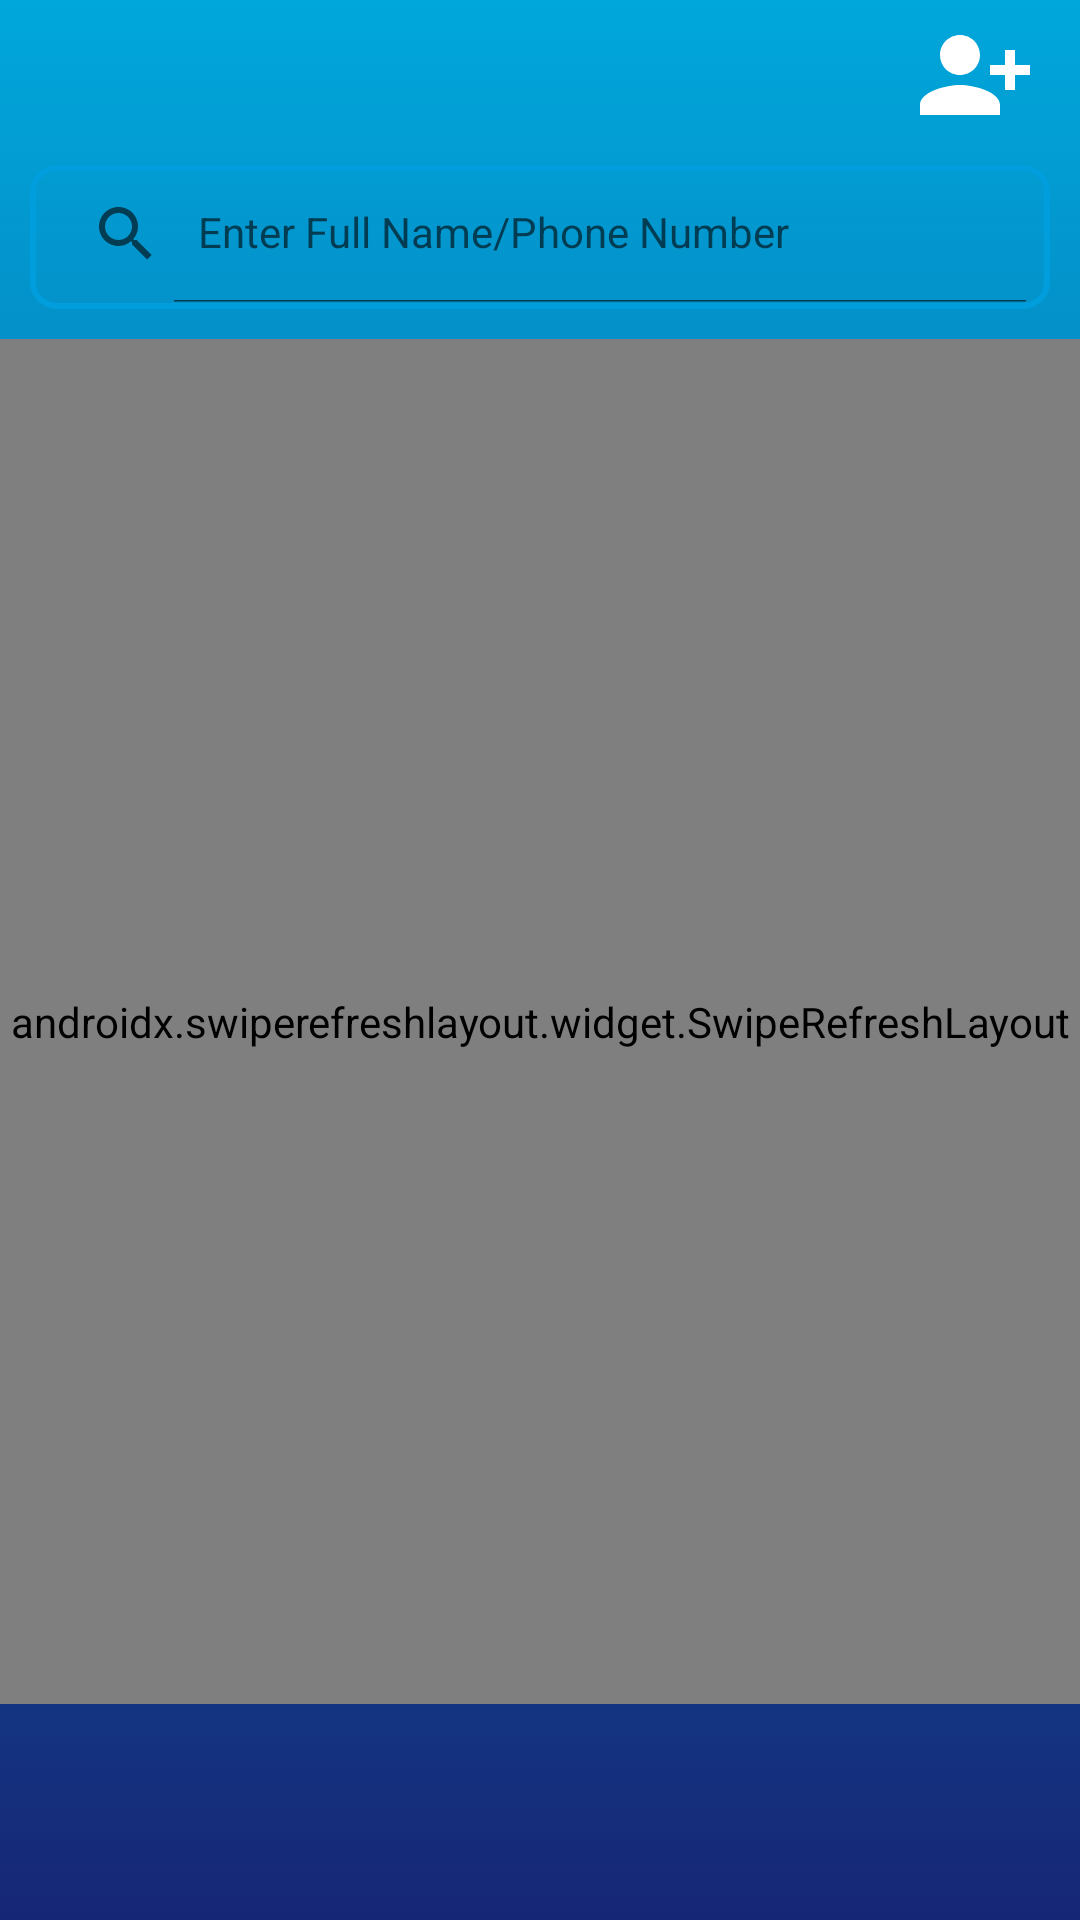

Icons on this 1080x1920 Android screen, each with its box as (x1, y1, x2, y2):
add user: (920, 35, 1030, 115)
